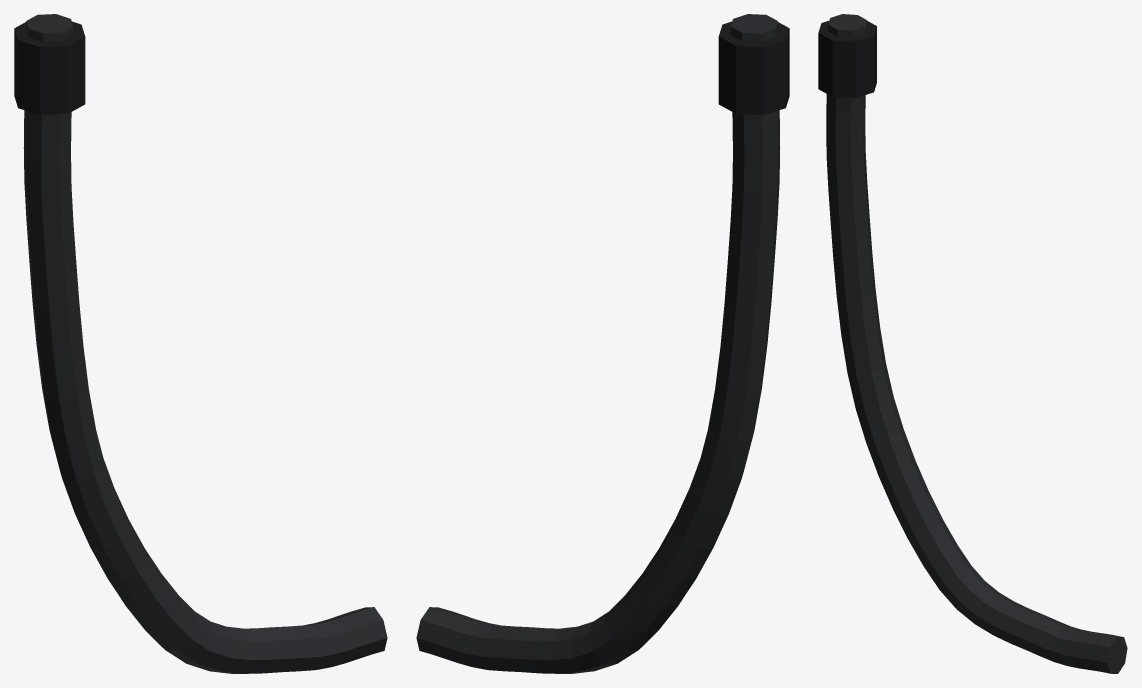
File: MinidoracatTesla_CableHang.fbx
3 views of the same model, side by side, from view 1: azimuth 30°, elevation 25°; view 2: azimuth 150°, elevation 25°; view 3: azimuth 330°, elevation 25° (orthographic). The views are drawn at different scales.
Visible parts, largest first — view 1: MinidoracatTesla_CableHang; view 2: MinidoracatTesla_CableHang; view 3: MinidoracatTesla_CableHang.
Part boxes in pixels (x1,y1,x2,y2): MinidoracatTesla_CableHang: (14, 14, 387, 673); MinidoracatTesla_CableHang: (416, 14, 789, 673); MinidoracatTesla_CableHang: (818, 14, 1127, 673).
Size of the model in its own units: 0.44 by 0.8343 by 0.078.
